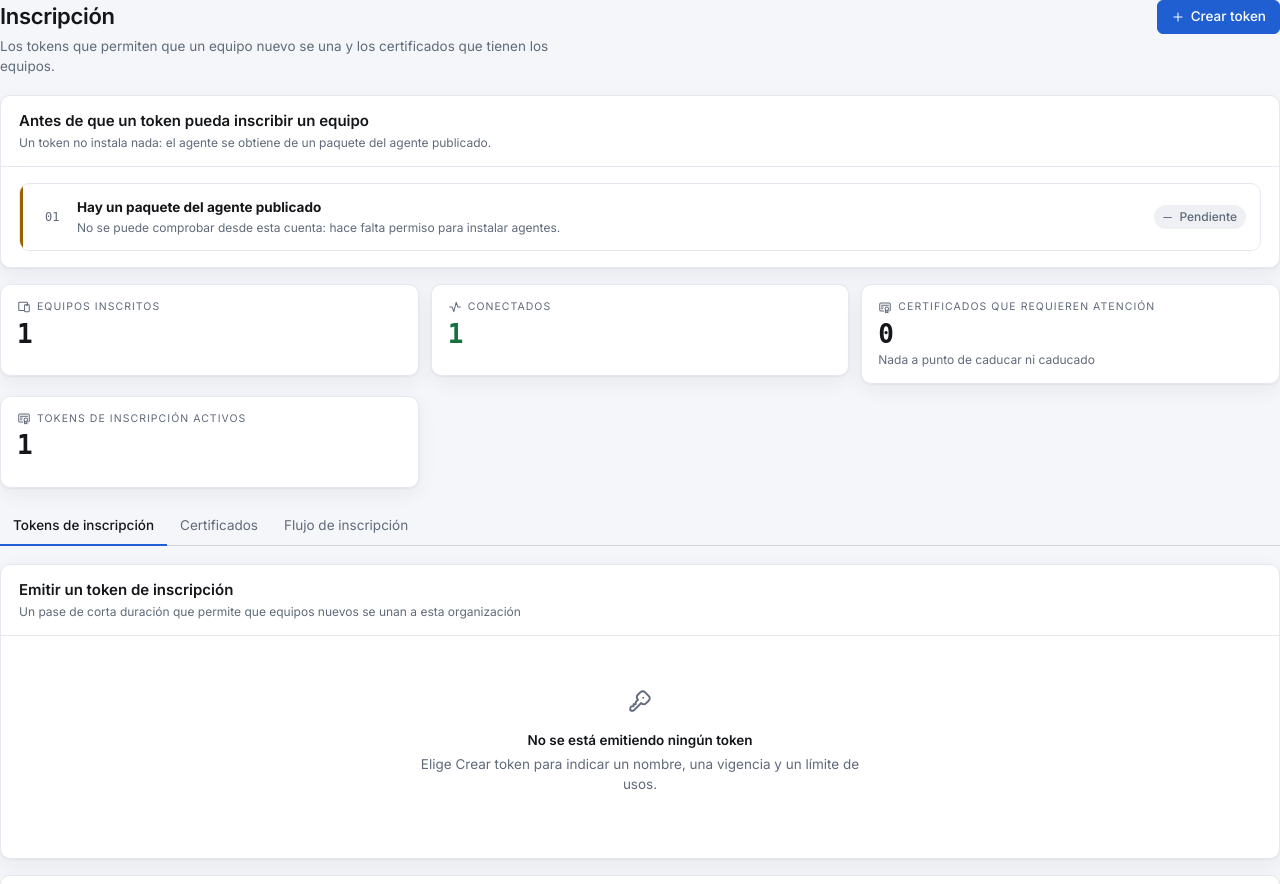
it: the enrollment page in Spanish › words the copy outcomes
The width and height of the screenshot is (1280, 884).
Click the button "Crear token": (1218, 17) x1=1157 y1=0 x2=1279 y2=34
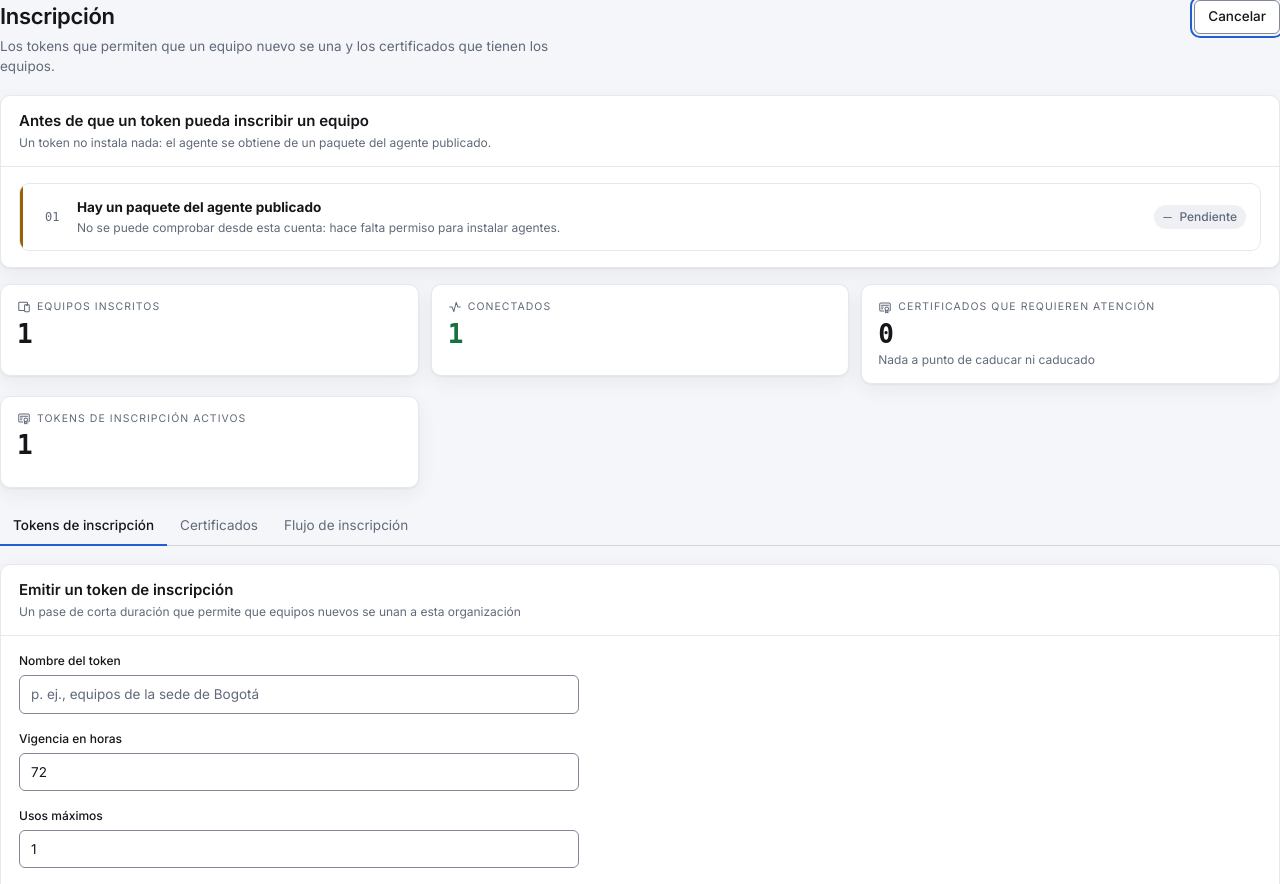
In the field labelled "Nombre del token": (299, 694) x1=19 y1=675 x2=579 y2=714, type "Lote"
(page scrolled)
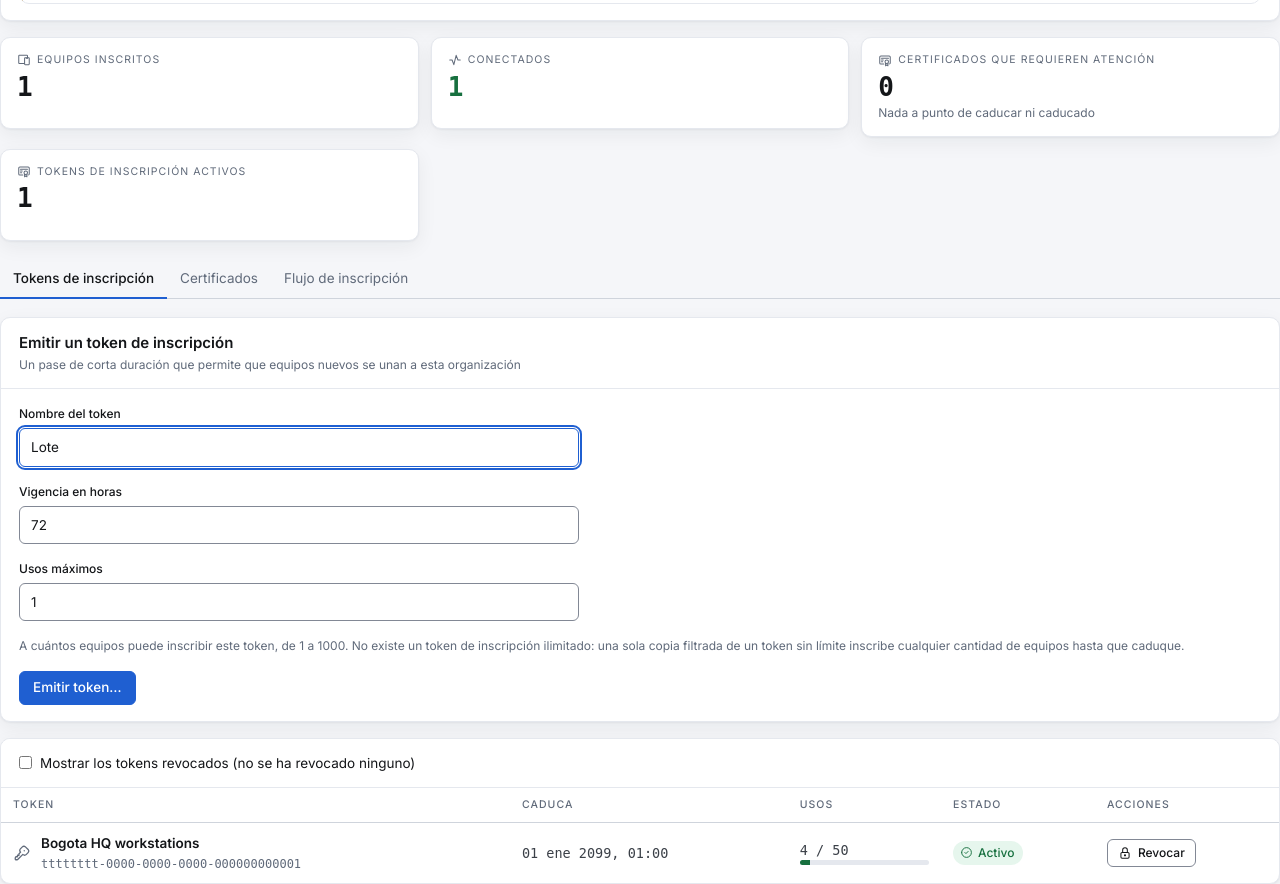
Click the button "Emitir token…": (77, 688) x1=19 y1=671 x2=136 y2=705
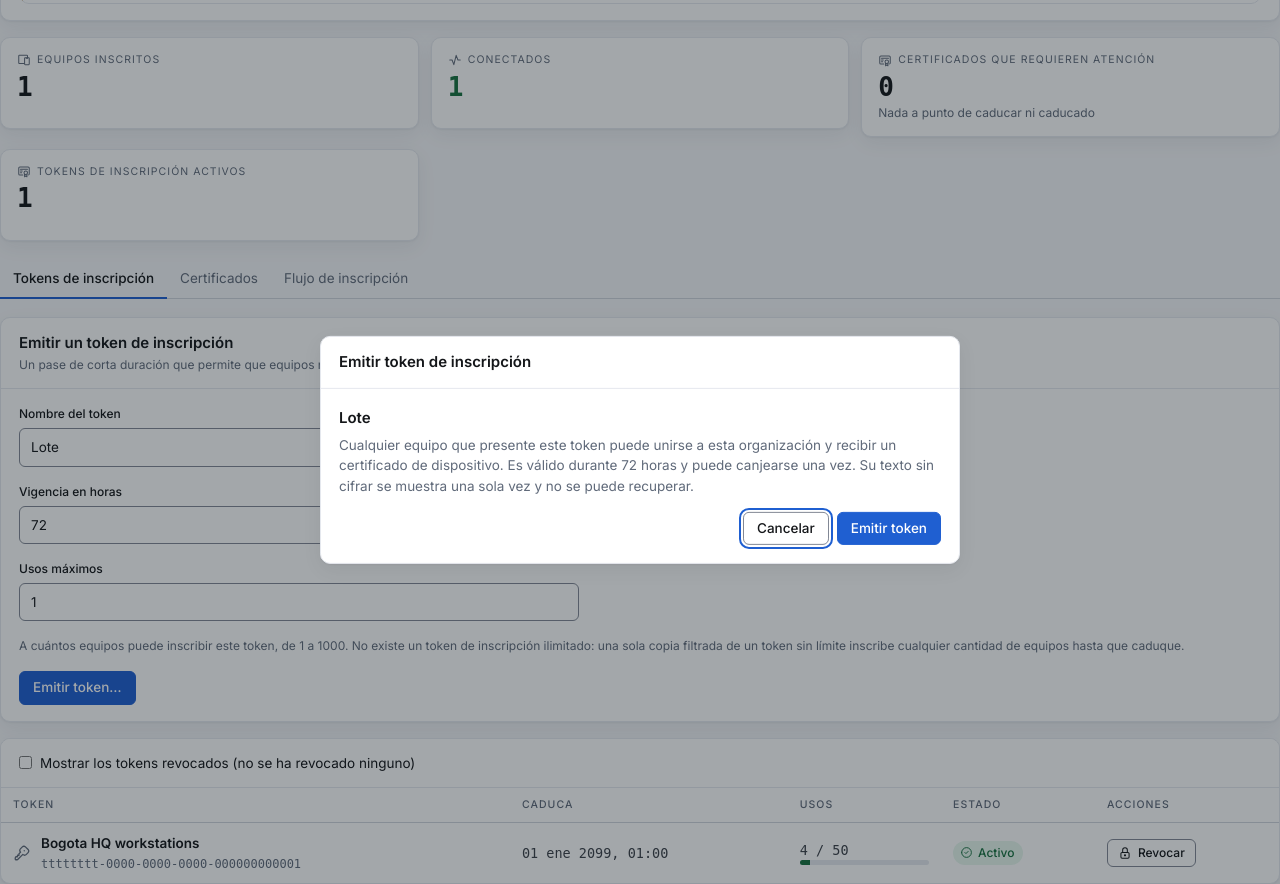
Click the button "Emitir token": (889, 528) x1=837 y1=512 x2=941 y2=545
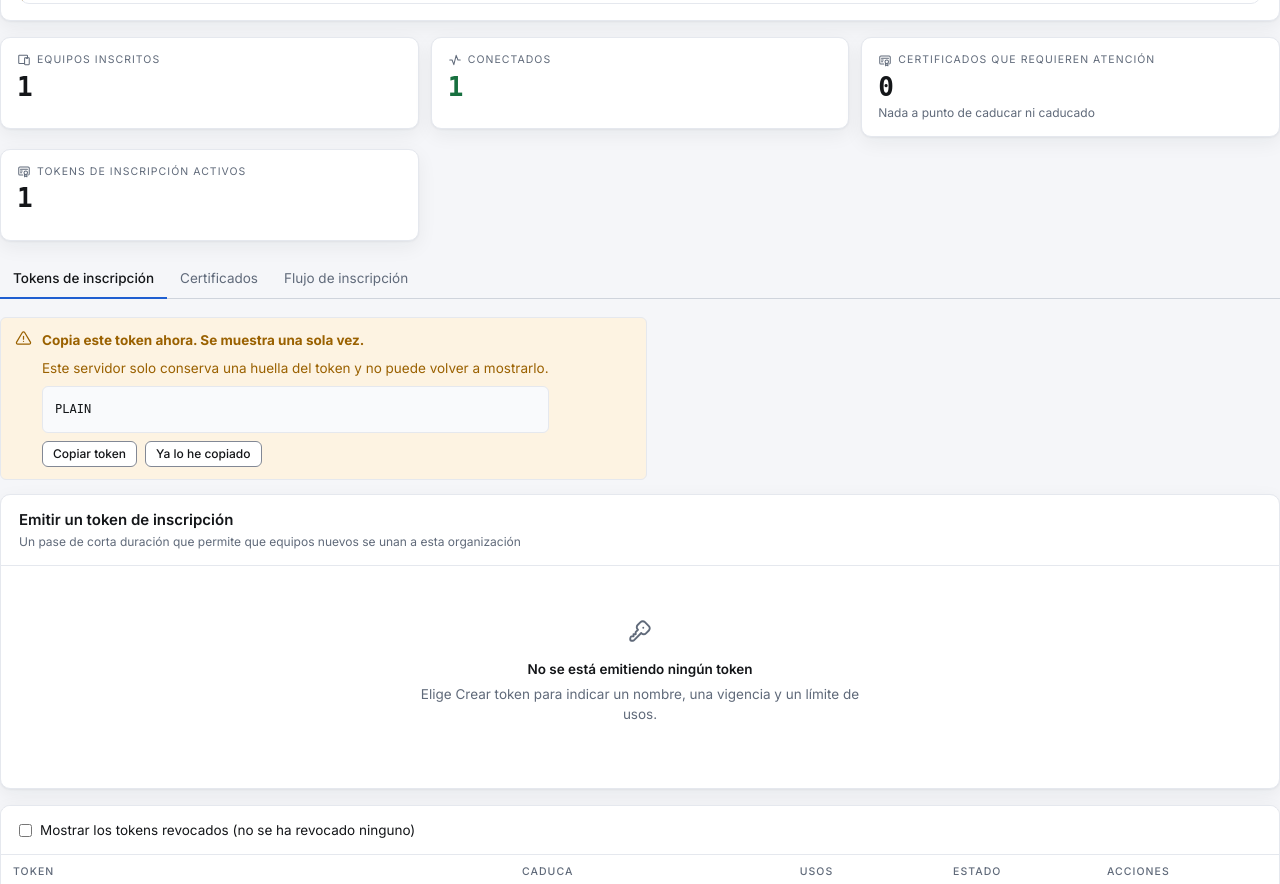
Click the button "Copiar token": (90, 454) x1=42 y1=441 x2=137 y2=467
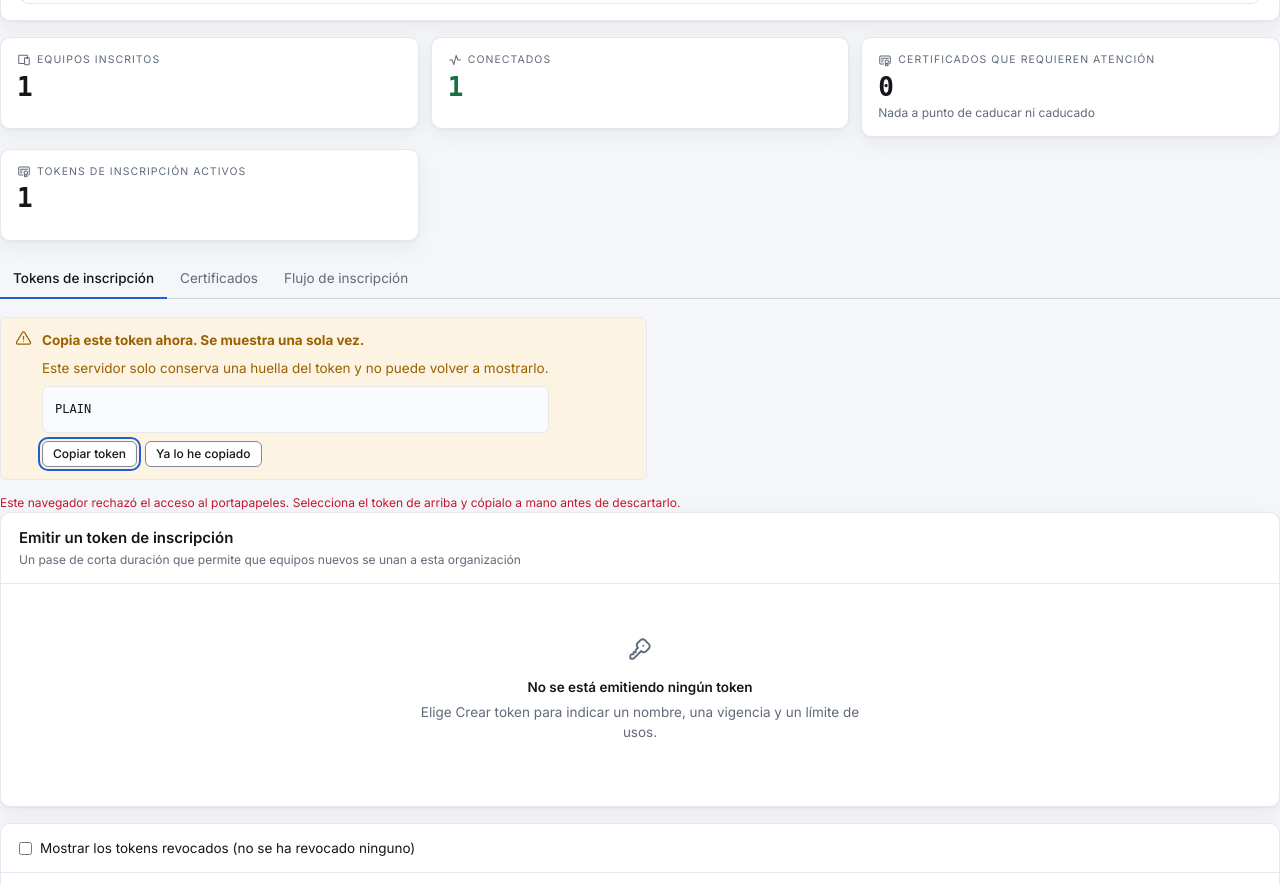
Expected: the text "Este navegador rechazó el acceso al portapapeles" is shown, x1=0 y1=495 x2=680 y2=510
Click the button "Copiar token": (90, 454) x1=42 y1=441 x2=137 y2=467
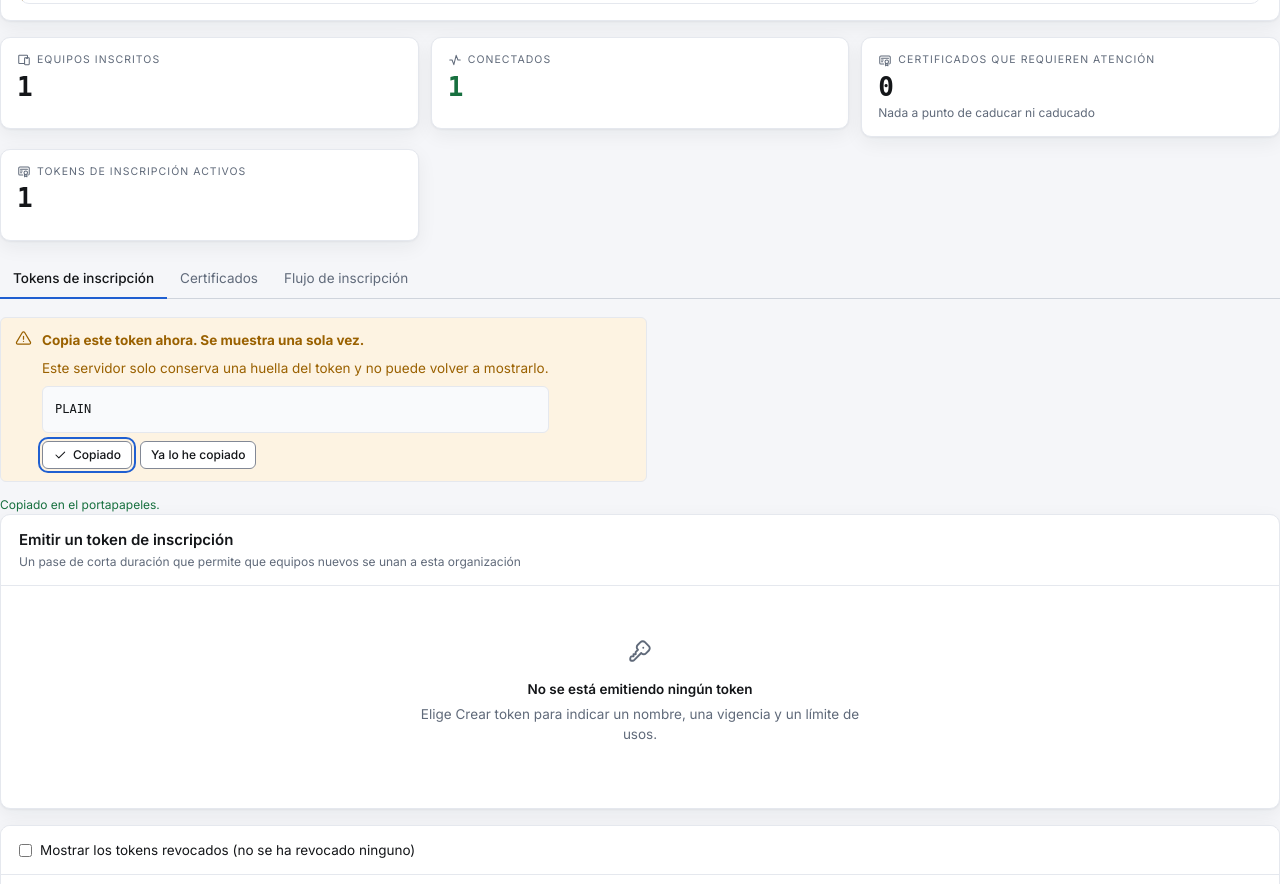
Expected: the text "Copiado en el portapapeles." is shown, x1=0 y1=497 x2=160 y2=512
Expected: the button "Copiado" is shown, x1=42 y1=441 x2=132 y2=469
